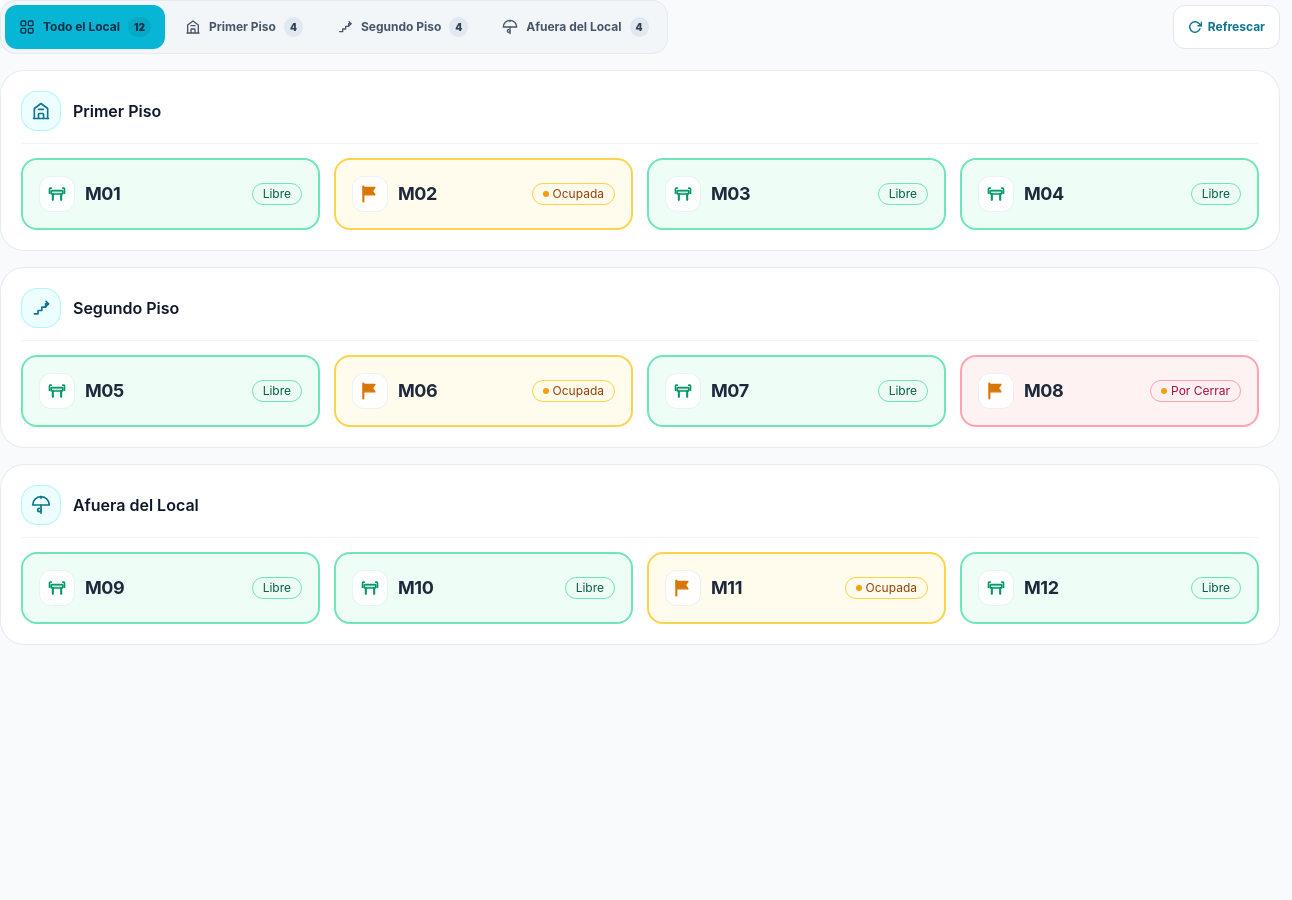
Test case: TableSelector Interactive Floor View › filters to only Segundo Piso tables when clicking its tab
The image size is (1292, 900).
What coordinates should you click on to do the following:
click the tab "Segundo Piso 4"
I would click on:
 (403, 27)
Its box is [323,5,482,49].
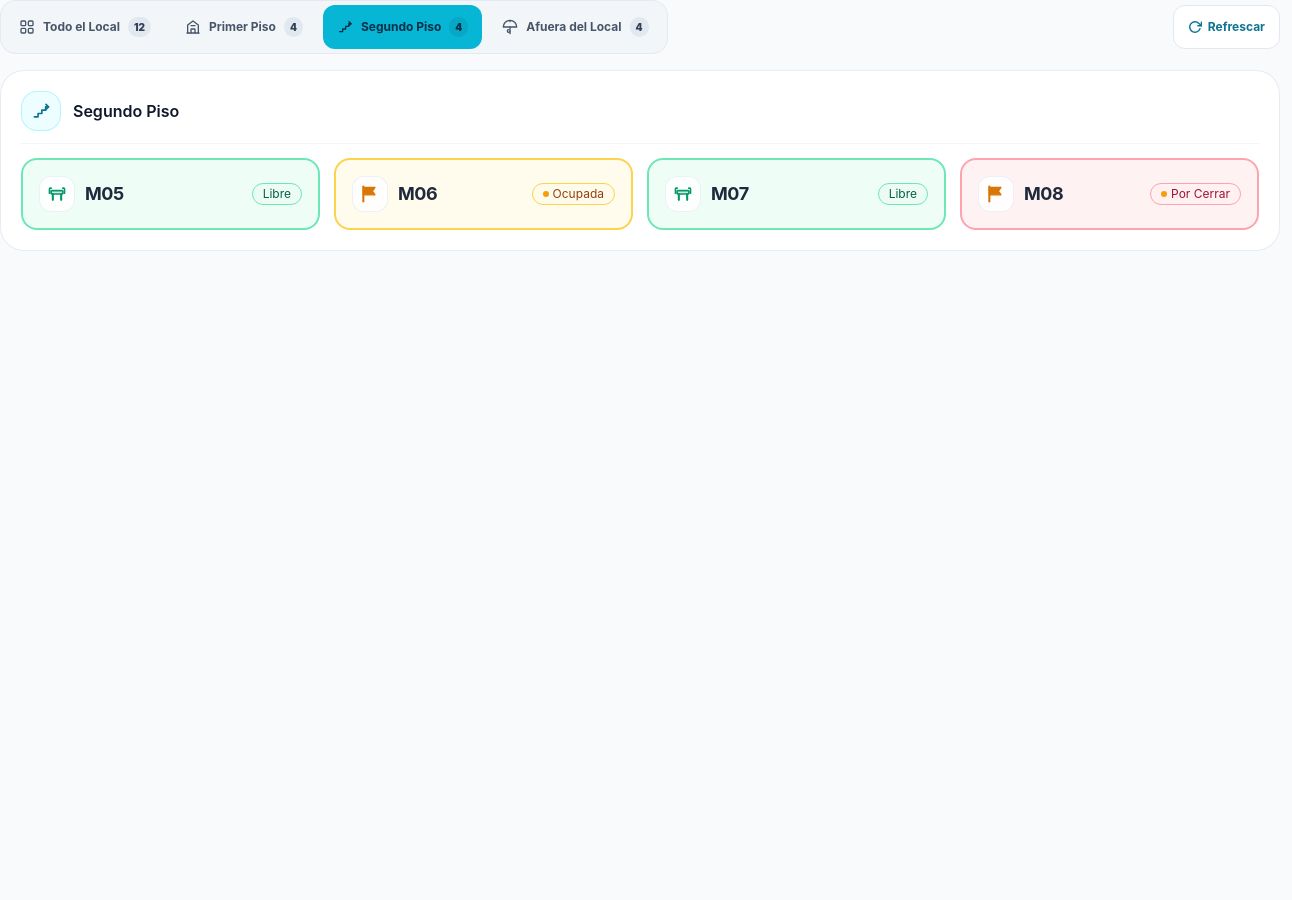
Expected: the heading "Segundo Piso" is shown, [73,101,179,121]
Now the button "M01" is gone
